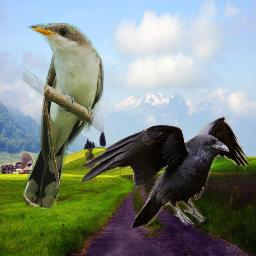Crow: (79, 116, 250, 228)
Cuckoo: (23, 23, 104, 209)
